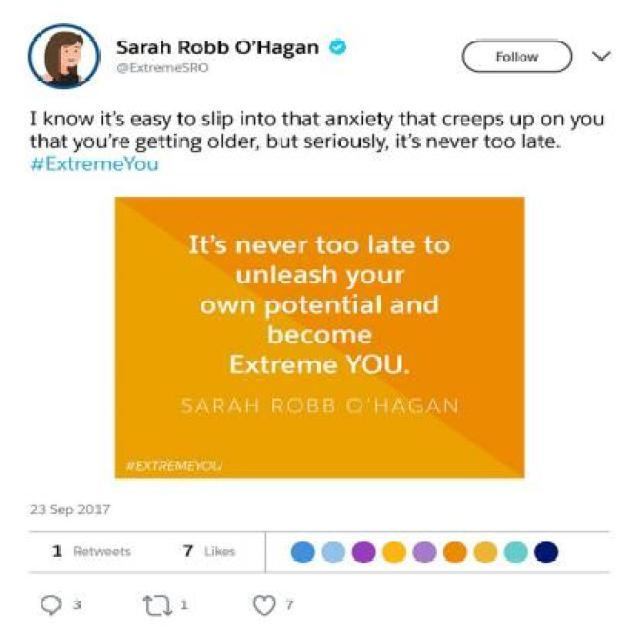0: (86, 504, 94, 514)
1: (52, 544, 62, 558), (94, 504, 102, 514)
2: (29, 504, 38, 514), (77, 504, 86, 514)
3: (72, 598, 82, 611), (180, 598, 188, 610), (38, 504, 46, 514)
7: (183, 544, 194, 556), (284, 599, 294, 610), (102, 504, 110, 514)
A: (359, 299, 373, 315), (390, 299, 404, 315), (426, 398, 440, 414), (194, 398, 208, 413), (228, 398, 242, 413), (392, 398, 406, 413), (376, 240, 390, 254), (294, 270, 308, 284), (146, 42, 160, 55), (49, 136, 62, 149), (128, 42, 140, 56), (300, 114, 312, 128), (324, 114, 336, 128), (142, 114, 152, 128), (418, 114, 428, 128), (271, 44, 284, 54), (526, 137, 537, 148), (296, 44, 306, 54)
B: (269, 326, 283, 344), (306, 398, 320, 414), (205, 39, 218, 55), (217, 39, 230, 55), (266, 134, 277, 150), (323, 398, 334, 413)
C: (300, 330, 314, 344), (442, 114, 453, 126)
D: (423, 294, 439, 314), (226, 134, 237, 148)
E: (230, 355, 244, 373), (278, 269, 292, 285), (309, 298, 323, 314), (358, 328, 372, 344), (282, 358, 296, 374), (322, 360, 338, 374), (253, 240, 267, 254), (282, 240, 296, 254), (402, 240, 416, 254), (284, 330, 298, 344), (544, 136, 556, 150), (147, 136, 158, 150), (459, 136, 470, 150), (46, 156, 57, 170), (130, 114, 142, 126), (459, 114, 470, 126), (471, 114, 482, 126), (119, 137, 130, 148), (313, 137, 324, 148), (81, 160, 92, 171), (112, 160, 123, 171), (366, 114, 376, 126), (238, 137, 248, 148), (438, 138, 449, 148), (167, 461, 176, 472), (187, 460, 196, 471), (129, 62, 137, 73), (135, 461, 143, 472), (82, 548, 90, 556), (104, 548, 112, 556), (112, 548, 120, 556), (222, 548, 230, 556), (175, 64, 182, 72), (154, 64, 160, 72), (59, 507, 64, 515)
F: (496, 50, 504, 61)
G: (282, 42, 296, 59), (409, 398, 423, 413), (135, 136, 148, 152), (190, 136, 202, 152)
H: (323, 266, 337, 283), (257, 39, 271, 55), (246, 398, 260, 413), (374, 398, 388, 413), (407, 110, 418, 126), (38, 133, 48, 149), (160, 40, 171, 54), (290, 110, 301, 124)
I: (190, 235, 199, 252), (30, 110, 38, 126), (353, 294, 358, 314), (360, 110, 365, 124), (239, 112, 244, 125), (396, 132, 399, 150), (333, 133, 336, 149), (101, 110, 104, 124), (174, 134, 177, 148), (216, 112, 219, 125), (212, 546, 214, 556)
K: (44, 112, 53, 125), (214, 546, 220, 556)
L: (368, 235, 374, 252), (204, 546, 212, 557), (372, 132, 376, 148), (522, 132, 526, 148), (377, 294, 380, 314), (221, 134, 224, 148), (272, 266, 274, 282), (212, 112, 214, 125), (516, 50, 518, 61), (512, 52, 514, 62)
M: (298, 358, 320, 374), (332, 329, 356, 343), (93, 160, 112, 171), (175, 461, 188, 472), (161, 64, 174, 72)
N: (407, 299, 422, 315), (236, 238, 250, 254), (254, 268, 268, 284), (240, 298, 254, 314), (324, 300, 340, 314), (444, 398, 458, 414), (178, 136, 190, 149), (306, 43, 320, 54), (426, 136, 437, 149), (337, 114, 348, 126), (246, 114, 256, 126), (554, 114, 564, 126), (54, 114, 64, 125)
O: (362, 354, 382, 374), (200, 299, 217, 315), (434, 238, 450, 254), (314, 328, 330, 344), (361, 268, 376, 284), (347, 398, 362, 414), (343, 240, 359, 254), (281, 300, 297, 314), (236, 39, 250, 55), (288, 398, 302, 414), (327, 240, 342, 254), (491, 136, 504, 150), (502, 136, 516, 149), (336, 136, 349, 149), (66, 114, 79, 126), (134, 160, 148, 171), (184, 114, 196, 126), (264, 114, 276, 126), (540, 114, 552, 126), (580, 114, 592, 126), (190, 43, 203, 54), (83, 136, 94, 149), (207, 137, 220, 148), (198, 62, 210, 73), (202, 461, 213, 472), (518, 54, 528, 62), (503, 54, 511, 62)
P: (266, 299, 280, 319), (482, 114, 496, 130), (523, 114, 534, 130), (222, 116, 233, 130), (66, 507, 74, 518)
R: (178, 39, 191, 55), (213, 398, 224, 413), (272, 398, 283, 413), (396, 268, 406, 284), (298, 239, 308, 253), (271, 359, 280, 373), (140, 43, 148, 54), (112, 137, 120, 148), (324, 137, 332, 148), (75, 159, 83, 170), (190, 62, 198, 73), (159, 460, 167, 471), (74, 546, 82, 556), (472, 137, 479, 148), (454, 114, 460, 126), (250, 137, 256, 148), (150, 64, 153, 72)
S: (115, 38, 128, 56), (214, 238, 228, 254), (309, 268, 322, 284), (182, 398, 192, 413), (201, 114, 210, 128), (116, 114, 124, 126), (495, 114, 503, 126), (304, 138, 313, 148), (153, 115, 161, 126), (182, 62, 190, 72), (362, 138, 370, 148), (412, 138, 419, 148), (51, 504, 57, 514), (230, 548, 236, 556), (125, 548, 130, 556)
T: (259, 356, 270, 374), (341, 296, 352, 313), (200, 235, 209, 254), (424, 236, 433, 255), (316, 237, 326, 254), (298, 297, 308, 314), (392, 237, 400, 254), (398, 111, 406, 127), (104, 112, 112, 126), (312, 112, 320, 126), (376, 112, 384, 126), (429, 112, 437, 126), (30, 134, 38, 148), (60, 134, 68, 148), (157, 134, 165, 148), (290, 134, 298, 148), (400, 134, 408, 148), (484, 134, 492, 148), (176, 112, 184, 125), (256, 112, 264, 125), (282, 112, 290, 125), (151, 461, 160, 472), (166, 134, 172, 148), (68, 157, 74, 171), (538, 134, 544, 148), (89, 547, 94, 556), (120, 548, 125, 556), (144, 64, 148, 73)
U: (385, 354, 403, 374), (378, 269, 393, 285), (237, 270, 251, 284), (592, 114, 605, 126), (510, 114, 521, 126), (212, 460, 223, 471), (96, 138, 107, 148), (279, 138, 290, 148), (350, 138, 361, 148), (148, 160, 158, 171)
V: (267, 240, 281, 254), (448, 137, 461, 148)
W: (217, 299, 240, 313), (78, 114, 94, 126), (94, 548, 105, 556), (528, 54, 538, 62)
X: (246, 358, 260, 374), (348, 114, 361, 126), (57, 159, 68, 172), (144, 461, 152, 472), (137, 64, 145, 72)
Y: (346, 355, 362, 373), (346, 270, 359, 290), (122, 156, 136, 170), (383, 114, 394, 131), (376, 136, 386, 153), (162, 114, 172, 130), (569, 116, 580, 130), (73, 136, 82, 153), (194, 460, 203, 471)
